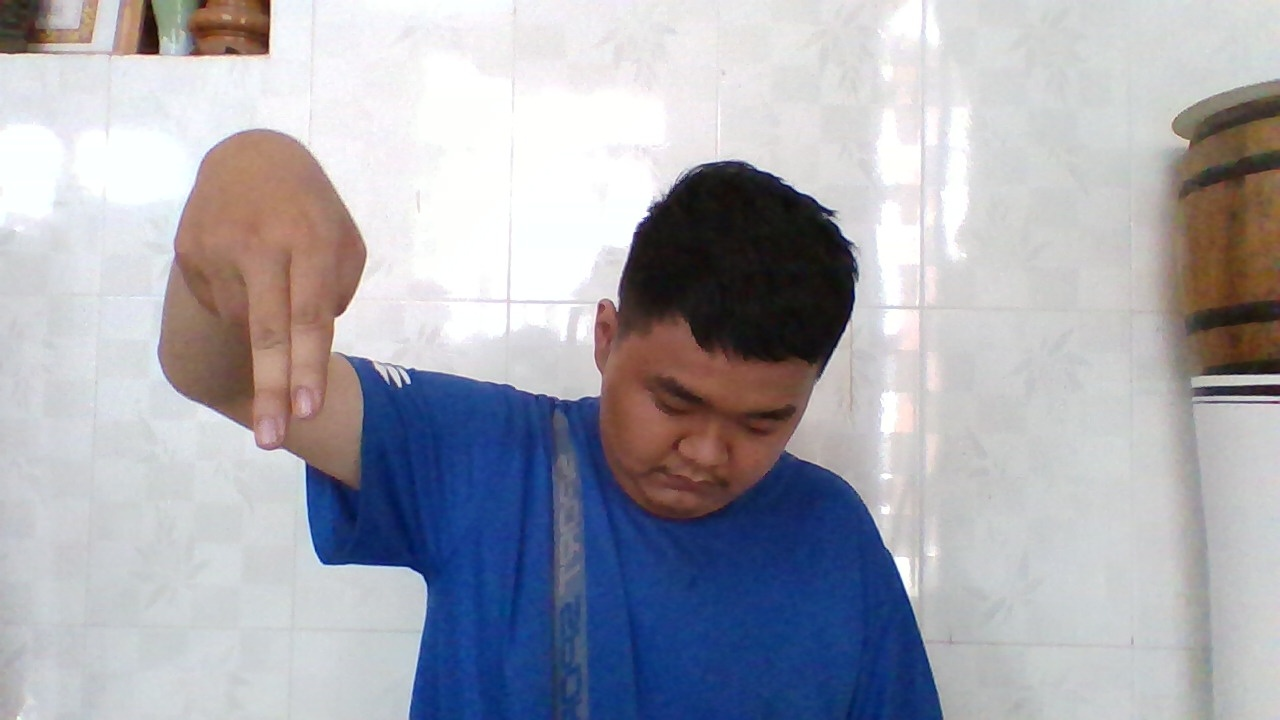N: (168, 127, 361, 459)
